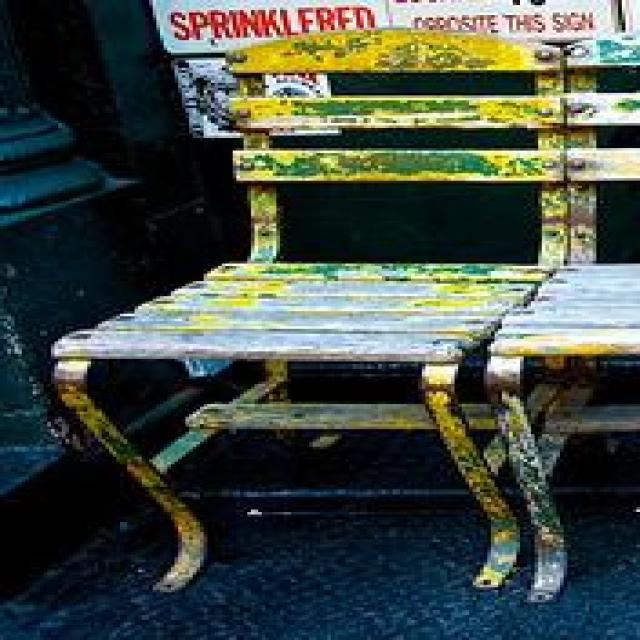chair: (53, 29, 566, 603)
